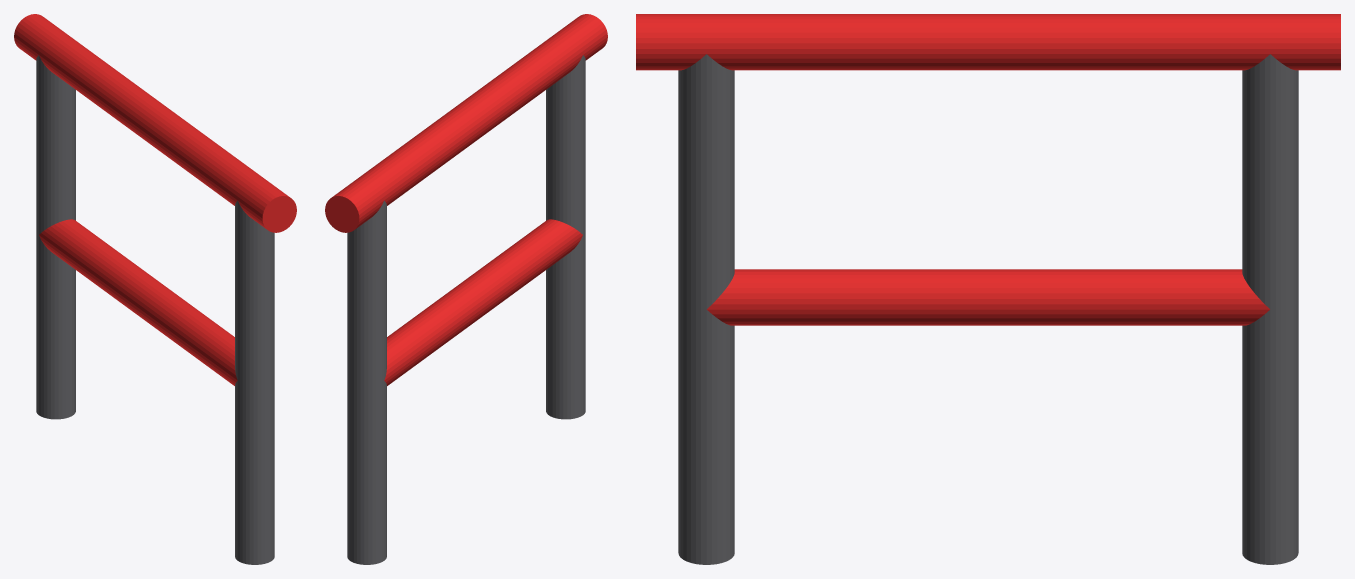
The model's file is Fence.fbx.
3 renders of one model, left to right at view 1: azimuth 30°, elevation 25°; view 2: azimuth 150°, elevation 25°; view 3: azimuth 270°, elevation 25°, orthographic. The views are drawn at different scales.
Parts seen in each view (by area): view 1: Cylinder.001; view 2: Cylinder.001; view 3: Cylinder.001.
Boxes of the visible parts, x1,y1,x2,y2 form: Cylinder.001: [14, 14, 296, 564]; Cylinder.001: [325, 14, 607, 564]; Cylinder.001: [636, 14, 1340, 564].
Bounding box in the file's own units: 8 × 84 × 100.
